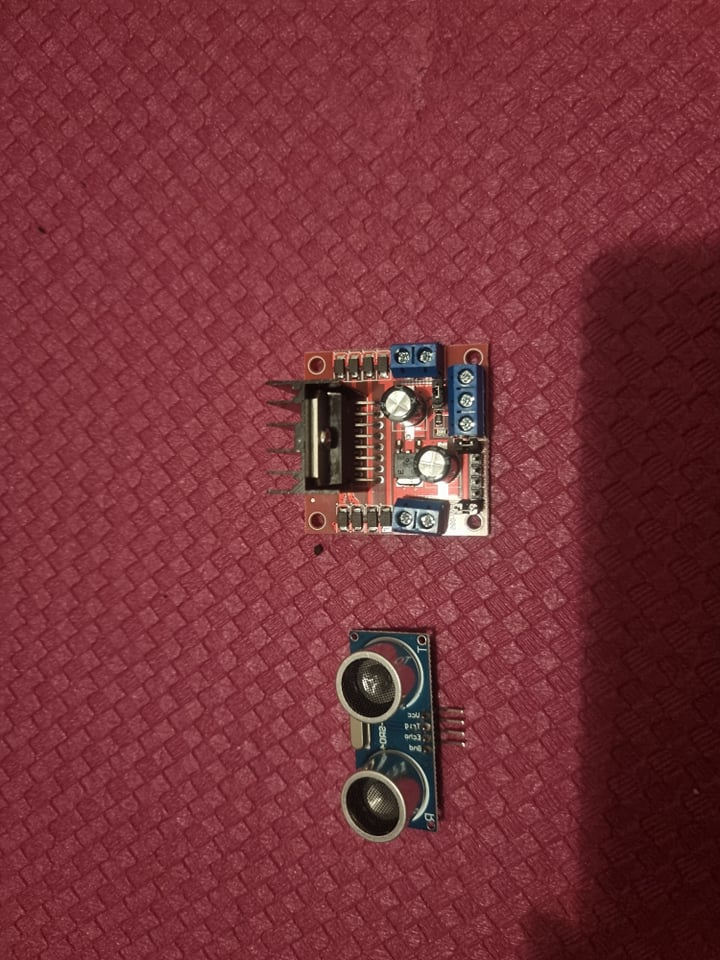MOTOR: (273, 339, 492, 546)
SENSOR: (339, 626, 439, 850)
